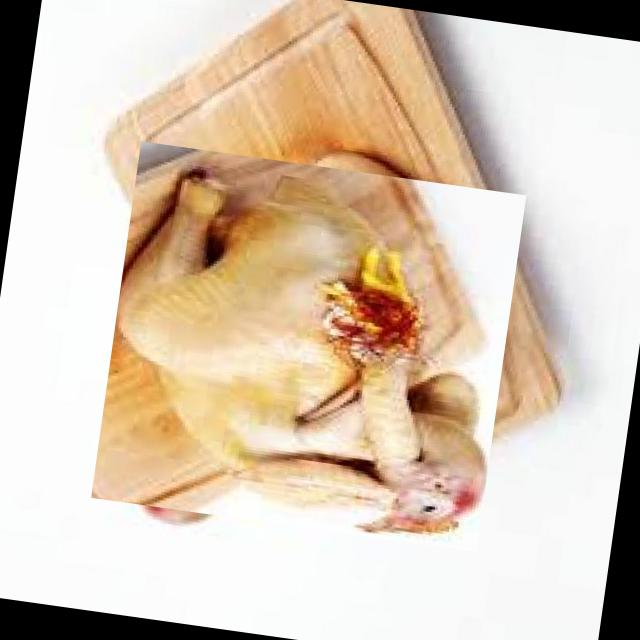chicken: (96, 134, 520, 558)
